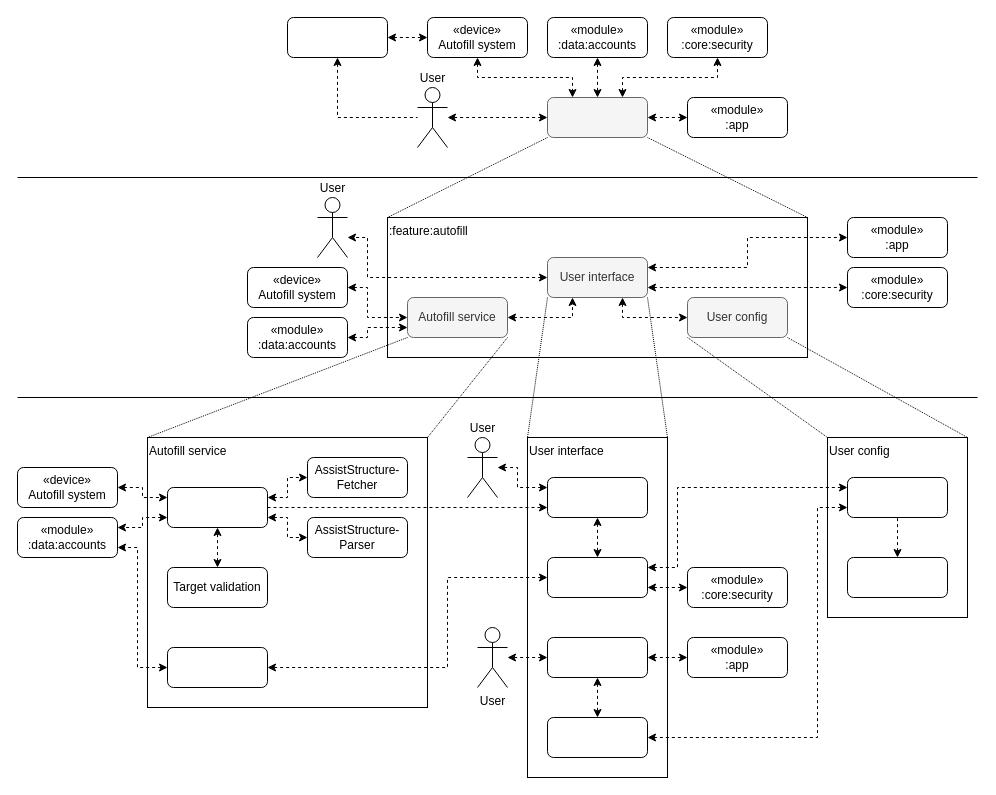
The diagram is 996 pixels wide and 795 high, and some of its shapes have lost their labels. The centre of each missing label's shape, as x and y in pixels:
"AutofillAuth-Activity" goes at (597,497).
"AutofillAuth-ViewModel" goes at (597,577).
"AutofillSettings-Screen" goes at (597,657).
"AutofillSettings-ViewModel" goes at (597,737).
"Concrete Repository" goes at (897,577).
"FetchAutofill-DataUseCase" goes at (217,667).
"Other app" goes at (337,37).
"«interface» Repository" goes at (897,497).
"«module» :feature:autofill" goes at (597,117).
"«service» PasswordVault-AutofillService" goes at (217,507).
